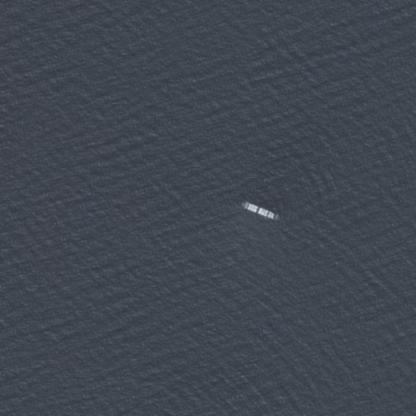ship: (232, 194, 284, 224)
